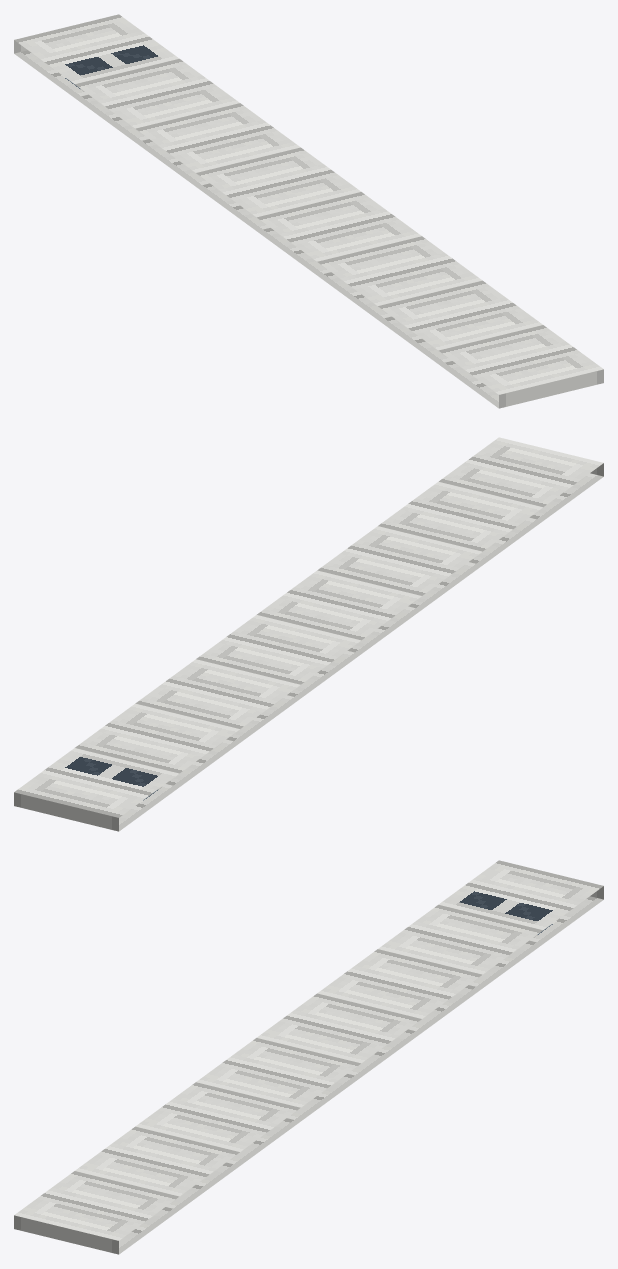
Rendered from windowed_run_8.obj.
The picture shows the model from 3 angles, top to bottom: view 1: azimuth 30°, elevation 25°; view 2: azimuth 150°, elevation 25°; view 3: azimuth 330°, elevation 25°; orthographic projection.
Parts seen in each view (by area): view 1: run; view 2: run; view 3: run.
Part boxes in pixels (x1,y1,x2,y2): run: [14, 14, 603, 408]; run: [14, 437, 603, 831]; run: [14, 860, 603, 1254].
Bounding box in the file's own units: 1 × 0.125 × 8.
